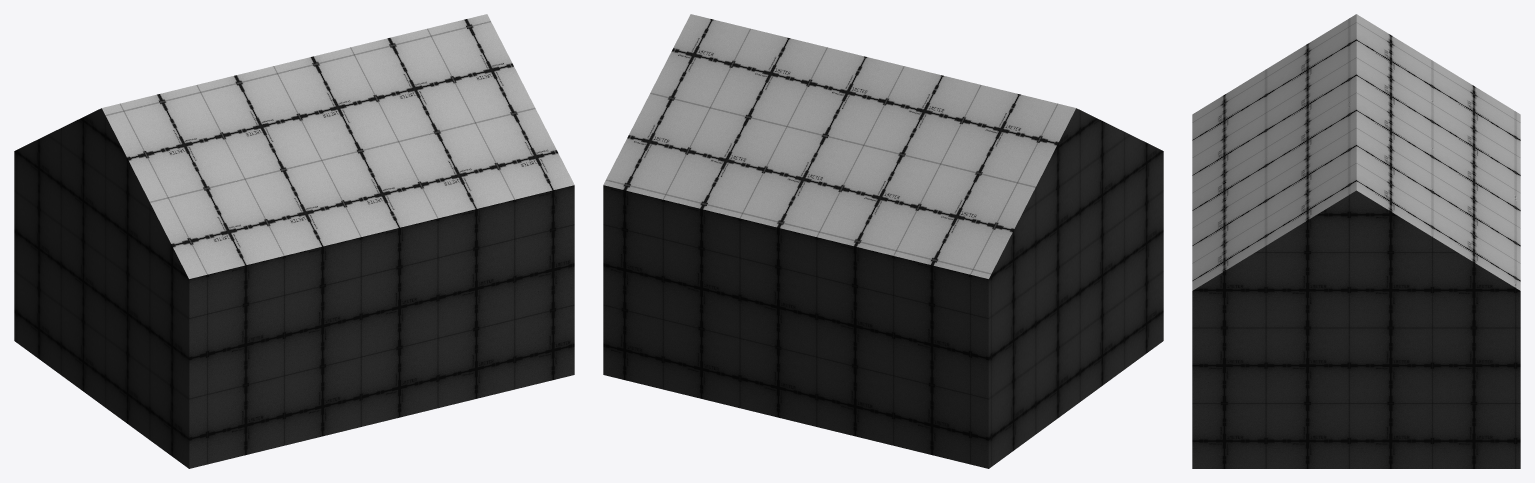
File: GALPON.fbx
The picture shows the model from 3 angles, left to right: view 1: azimuth 30°, elevation 25°; view 2: azimuth 150°, elevation 25°; view 3: azimuth 270°, elevation 25°; orthographic projection. The views are drawn at different scales.
Parts seen in each view (by area): view 1: GALPON; view 2: GALPON; view 3: GALPON.
Part boxes in pixels (<box>): GALPON: <box>14,14,574,468</box>; GALPON: <box>603,14,1163,468</box>; GALPON: <box>1192,14,1520,468</box>.
Size of the model in its own units: 5.02 by 3.69 by 3.95.
